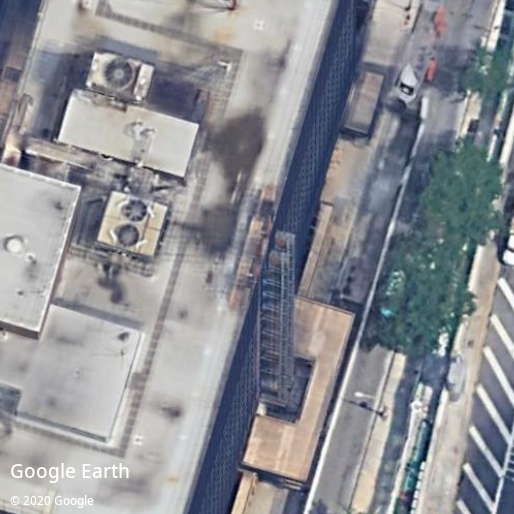Vent: (104, 59, 133, 88), (124, 198, 147, 221), (117, 224, 139, 247)
